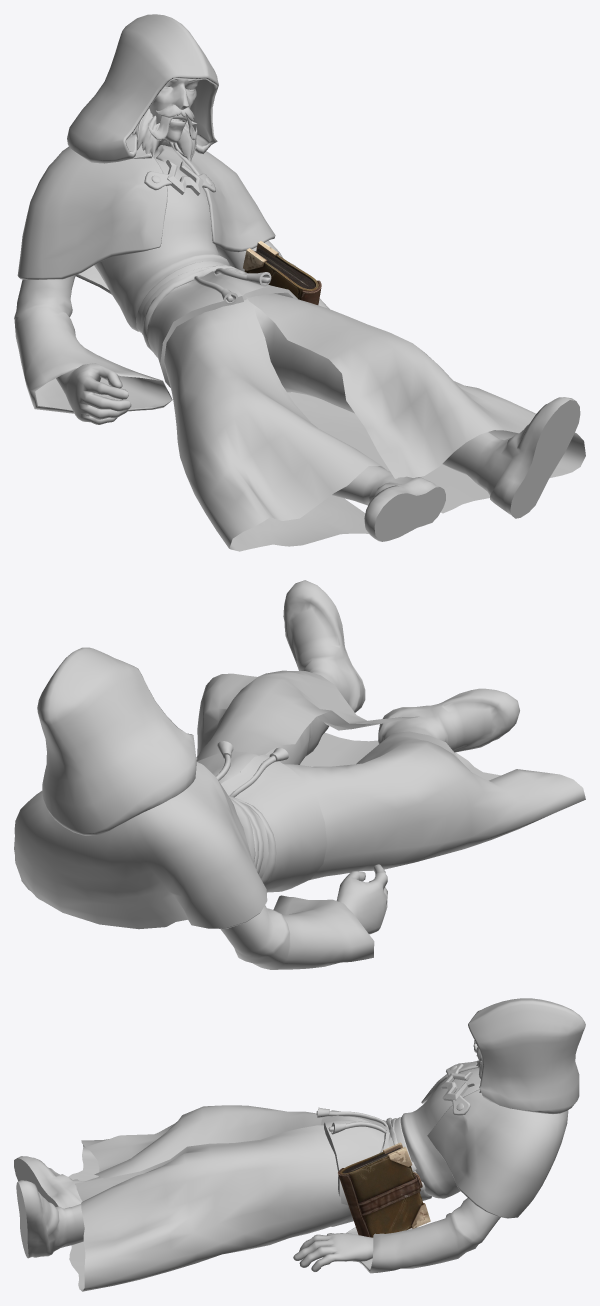
3 renders of one model, top to bottom at view 1: azimuth 30°, elevation 25°; view 2: azimuth 150°, elevation 25°; view 3: azimuth 270°, elevation 25°, orthographic. The views are drawn at different scales.
Parts seen in each view (by area): view 1: SM_M_MED_Zamorak_Mage_Dead_01_LOD0; view 2: SM_M_MED_Zamorak_Mage_Dead_01_LOD0; view 3: SM_M_MED_Zamorak_Mage_Dead_01_LOD0.
Part boxes in pixels (x1,y1,x2,y2): SM_M_MED_Zamorak_Mage_Dead_01_LOD0: (14, 14, 585, 551); SM_M_MED_Zamorak_Mage_Dead_01_LOD0: (14, 580, 585, 969); SM_M_MED_Zamorak_Mage_Dead_01_LOD0: (14, 998, 585, 1291).
Size of the model in its own units: 0.9889 by 0.7736 by 1.65.
